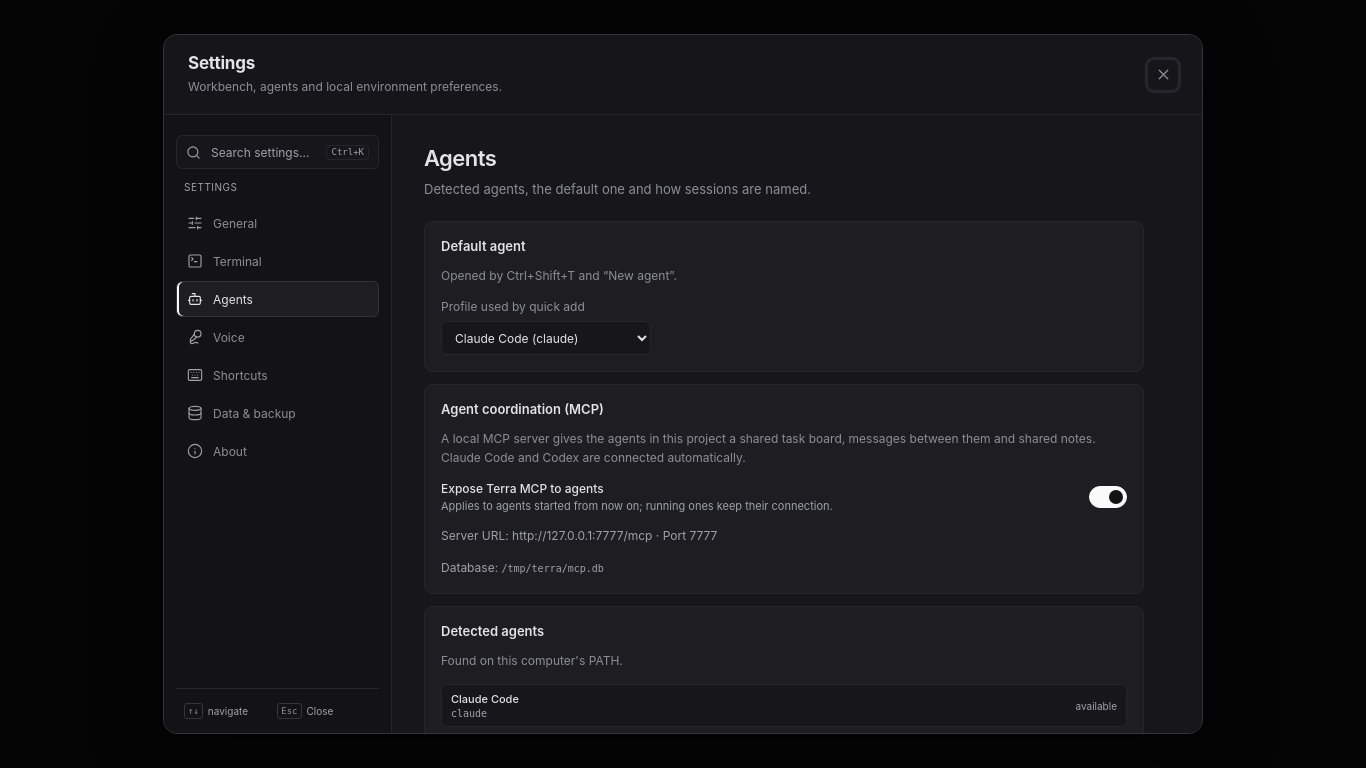
SettingsSectionPanel agents › Given detected agents, when picking the default one, then only installed agents are offered
Select "Ask every time" in the dropdown labelled "Profile used by quick add" at (546, 338), box x1=441 y1=321 x2=651 y2=355
Select "Custom CLI (custom-cli)" in the dropdown labelled "Profile used by quick add" at (546, 338), box x1=441 y1=321 x2=651 y2=355
(page scrolled)
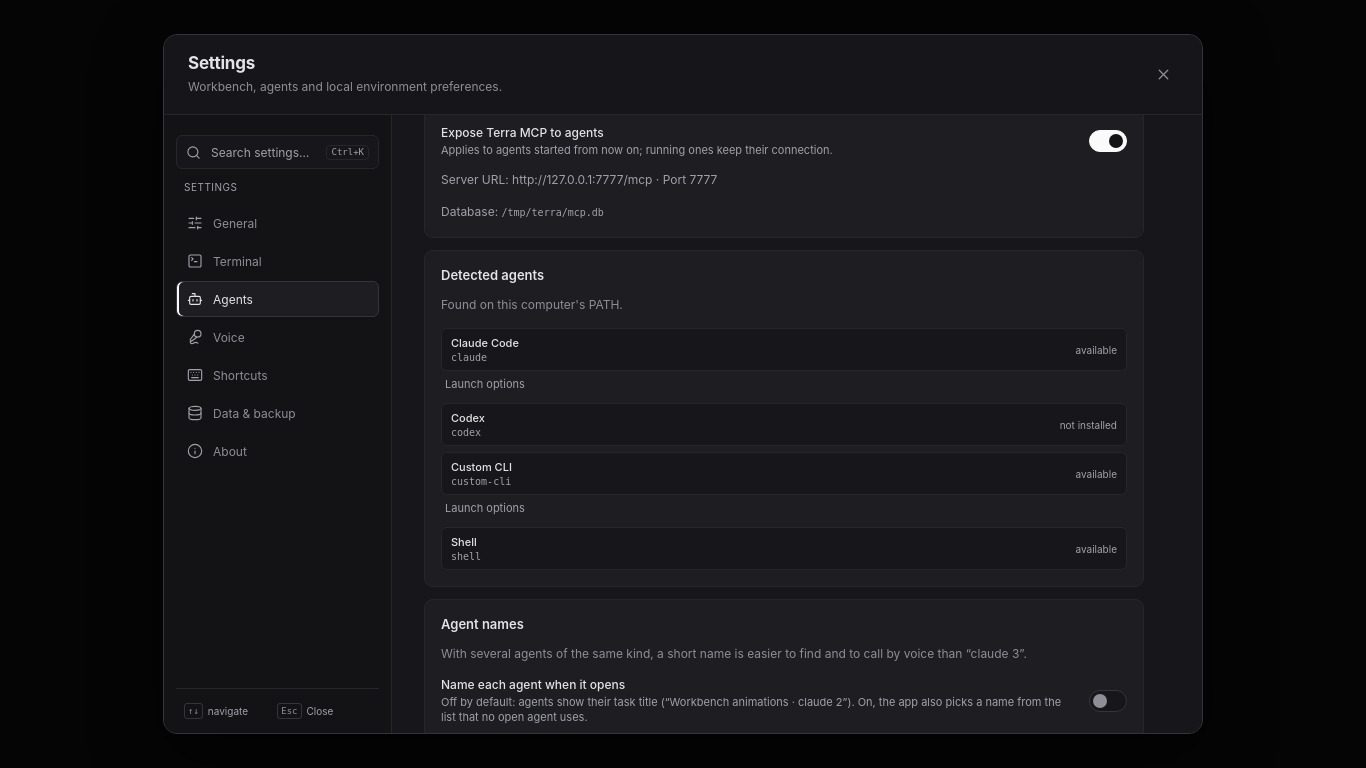
Now the text "not installed" is shown, box x1=1060 y1=418 x2=1117 y2=430
Now the text "available" is shown 3 times, box x1=1076 y1=344 x2=1117 y2=356; x1=1076 y1=468 x2=1117 y2=480; x1=1076 y1=542 x2=1117 y2=554
Now the number of buttons "Launch options" is 2, box x1=445 y1=375 x2=525 y2=393; x1=445 y1=499 x2=525 y2=517
